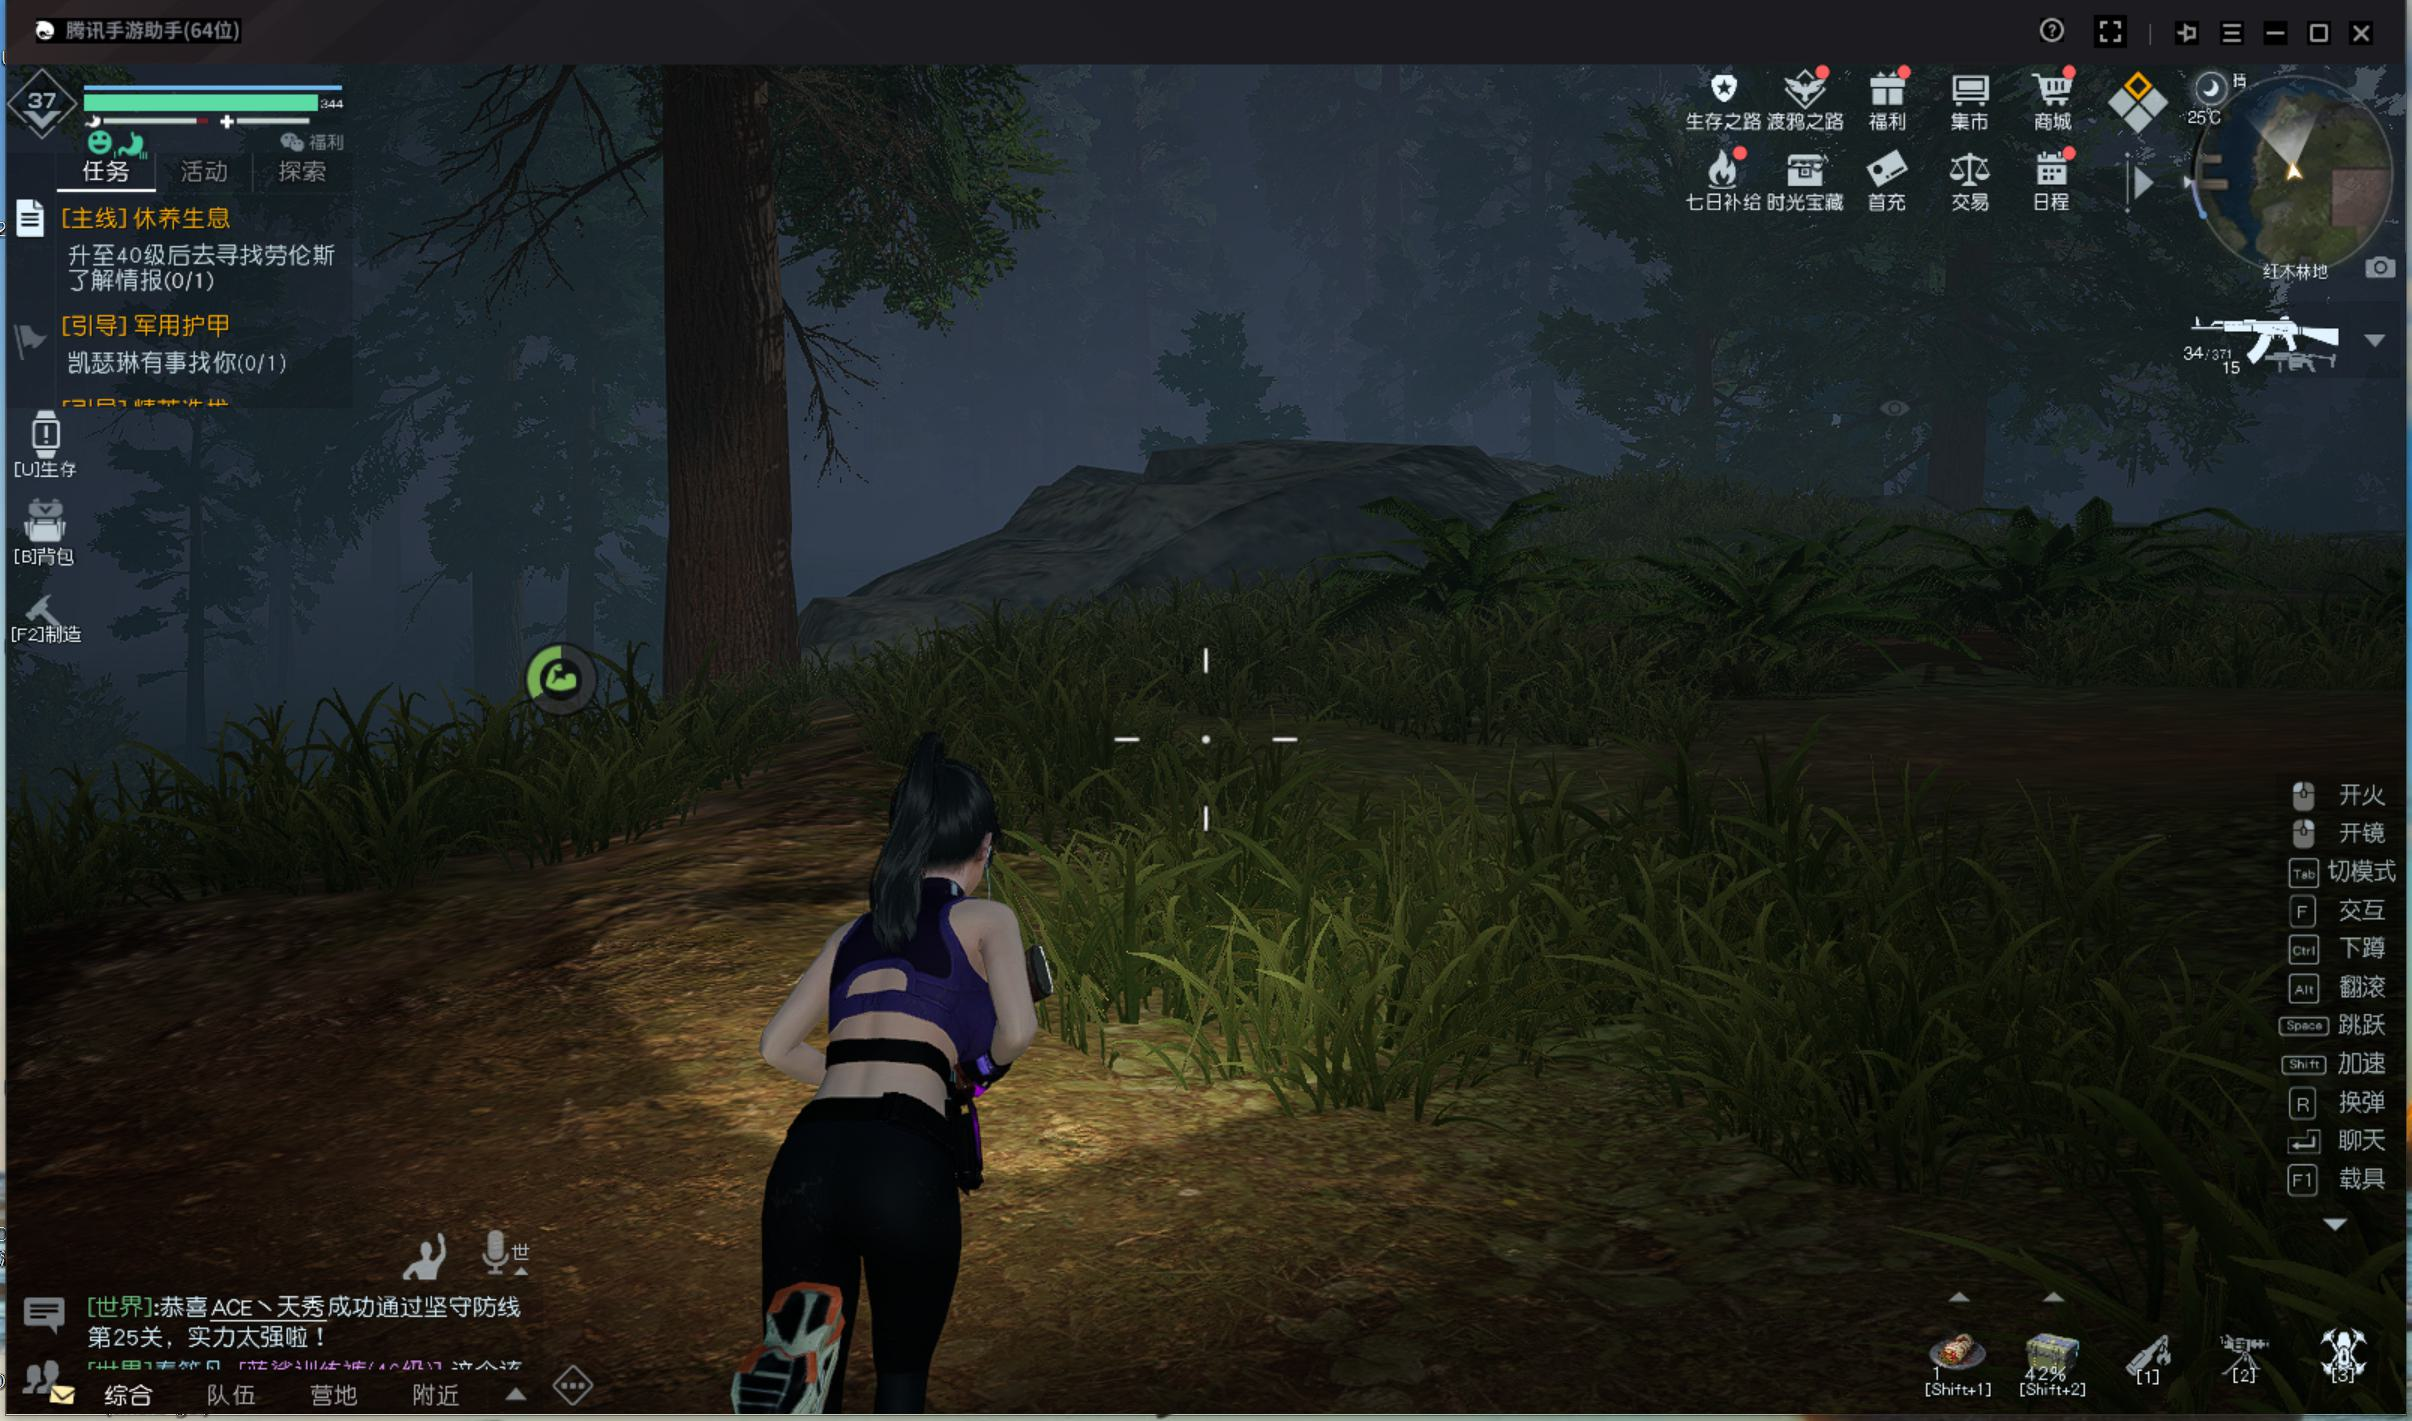tree: (653, 237, 807, 707), (1916, 298, 1996, 526), (174, 491, 218, 760), (458, 568, 533, 709), (560, 535, 599, 705)
